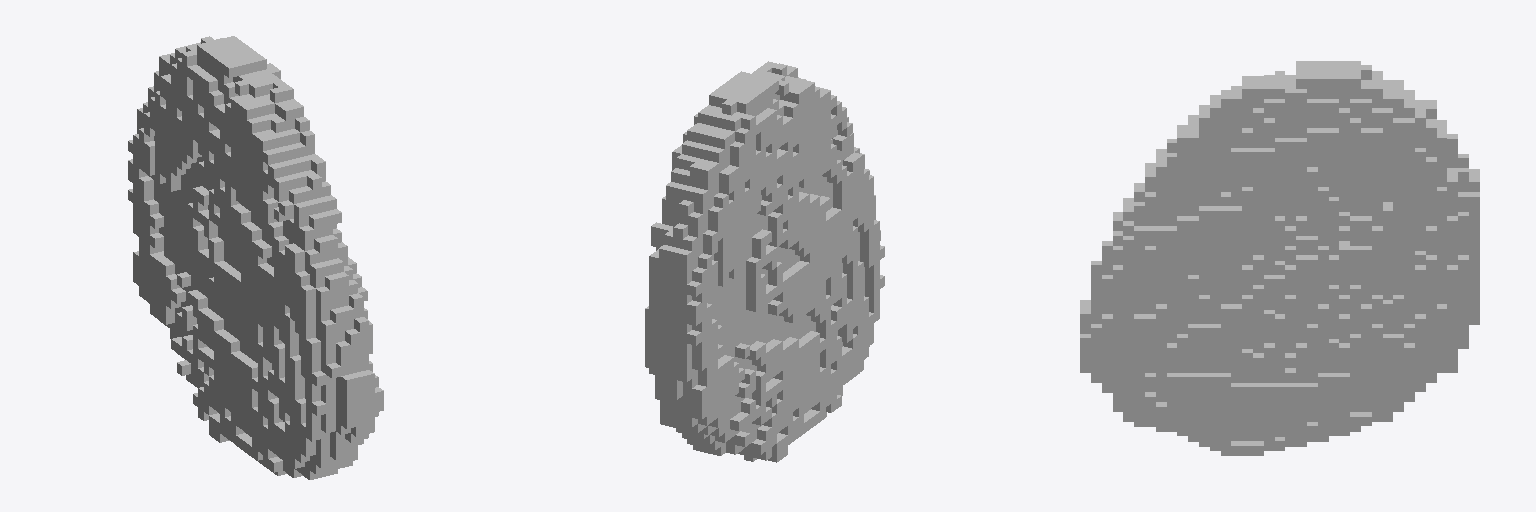
File: 2imotenn_age.obj
The picture shows the model from 3 angles: view 1: azimuth 30°, elevation 25°; view 2: azimuth 150°, elevation 25°; view 3: azimuth 270°, elevation 25°; orthographic projection.
Parts seen in each view (by area): view 1: object 1; view 2: object 1; view 3: object 1.
Boxes of the visible parts, x1,y1,x2,y2 form: object 1: [128, 36, 383, 479]; object 1: [645, 61, 884, 462]; object 1: [1080, 61, 1479, 455].
Size of the model in its own units: 0.6 by 3.8 by 3.7.